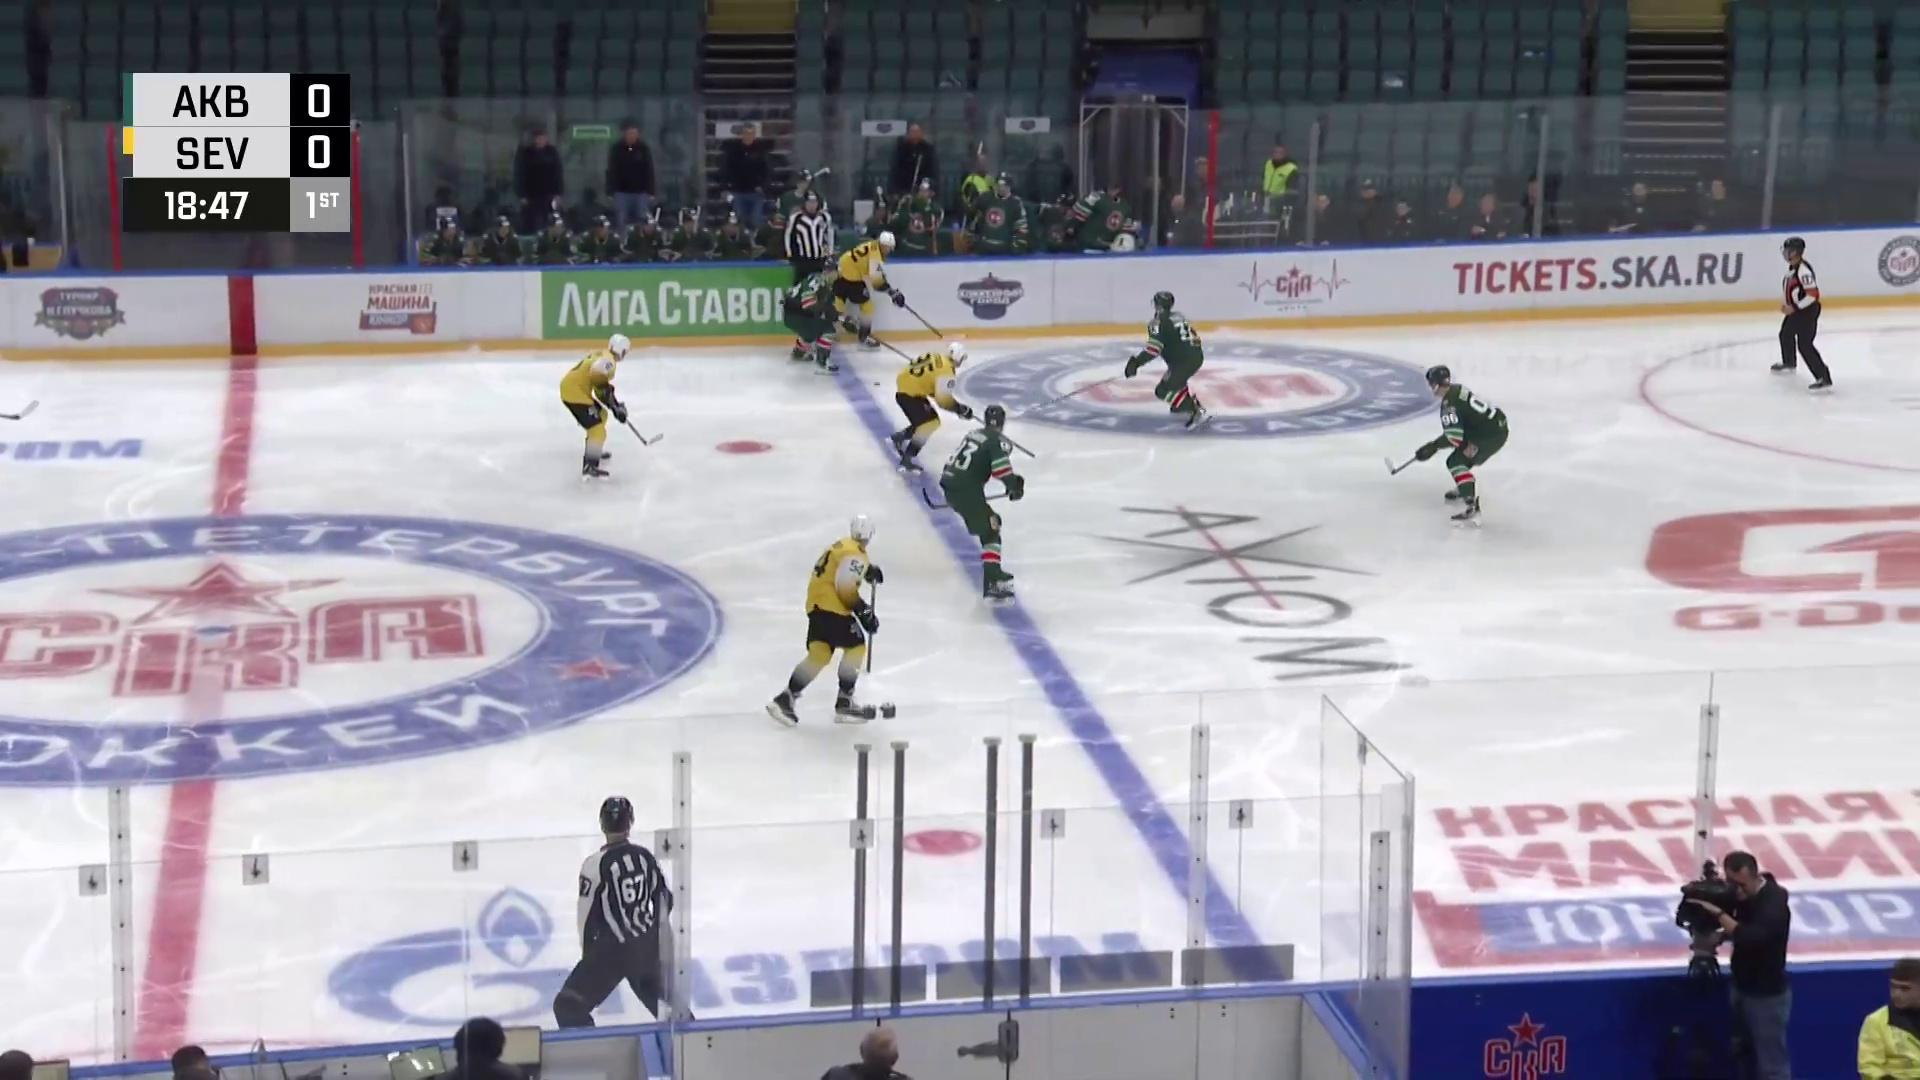ball: (873, 381, 881, 388)
